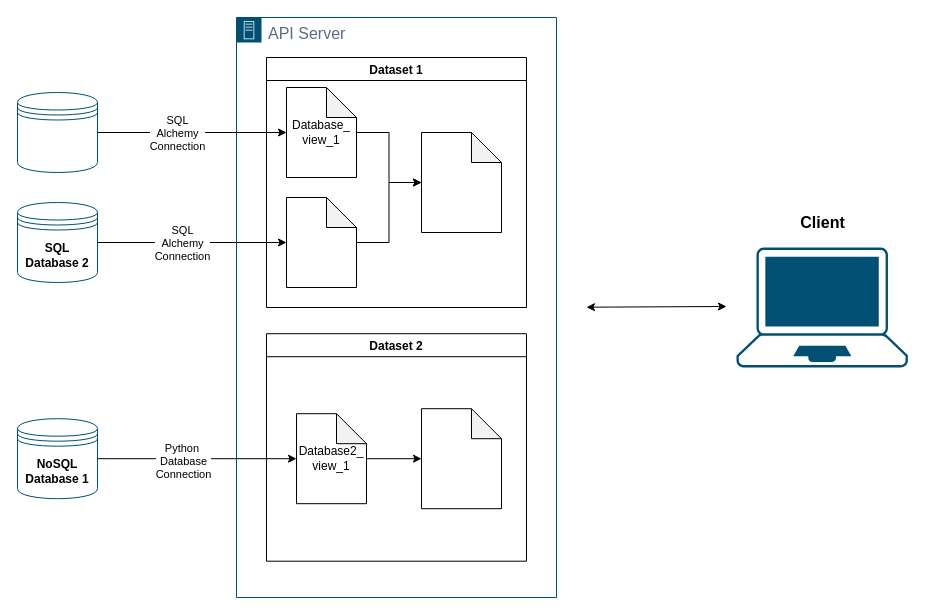
Some shapes in this 925 by 615 pixel diagram are drawn without their labels. The shapes that lost their labels are listed below. From the top down, each one's centre as x and y in pixels, then its label:
At point 57,132: "SQL Database 1".
At point 461,182: "Final_view_1".
At point 321,242: "Database_ view_2".
At point 461,458: "Final2_view_1".
